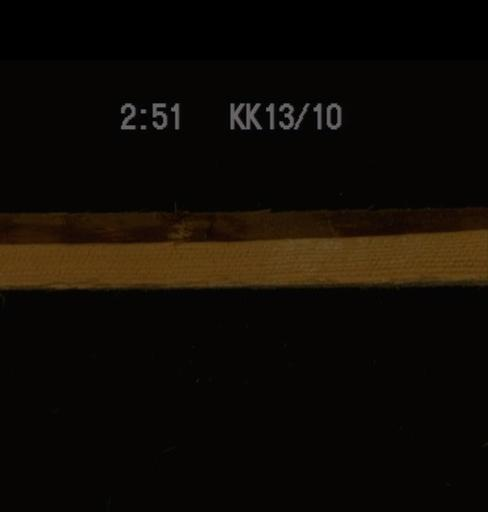wave: (0, 202, 486, 244)
